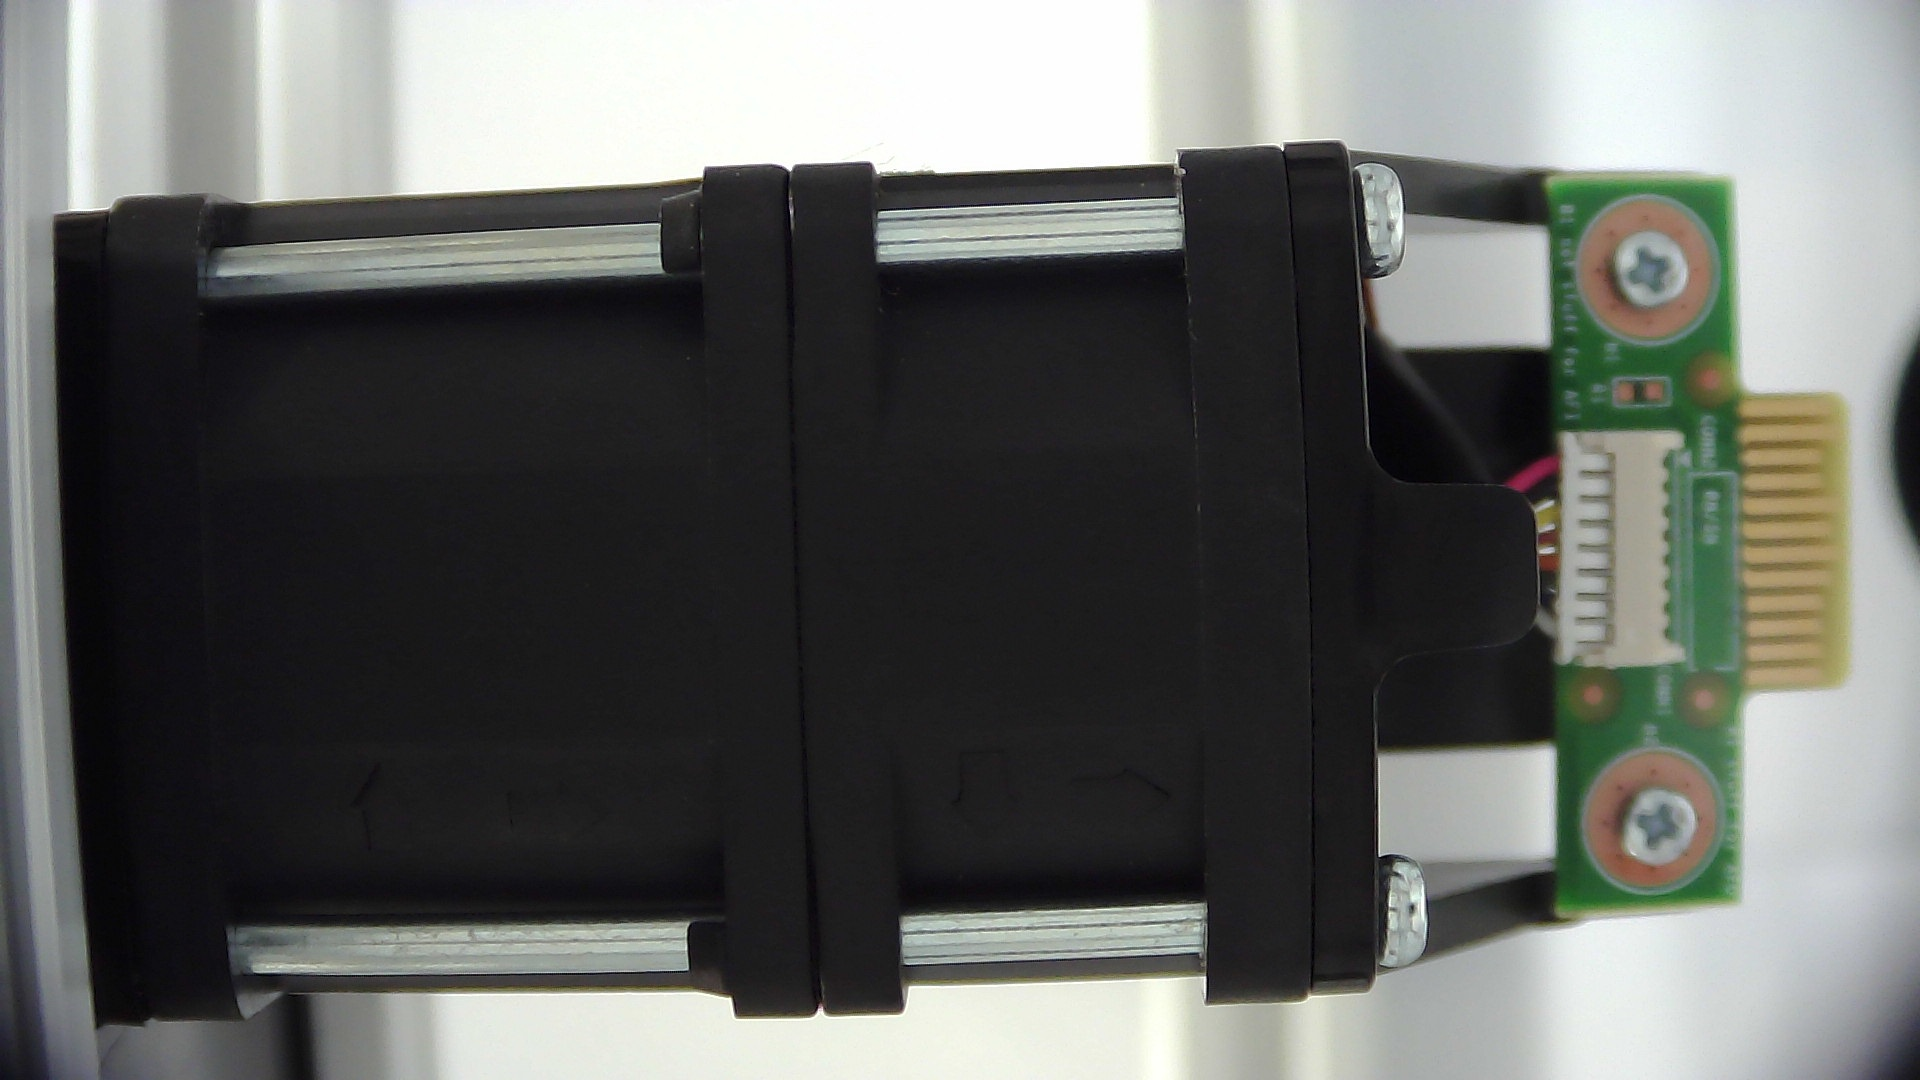2_2: (137, 223, 1240, 967)
